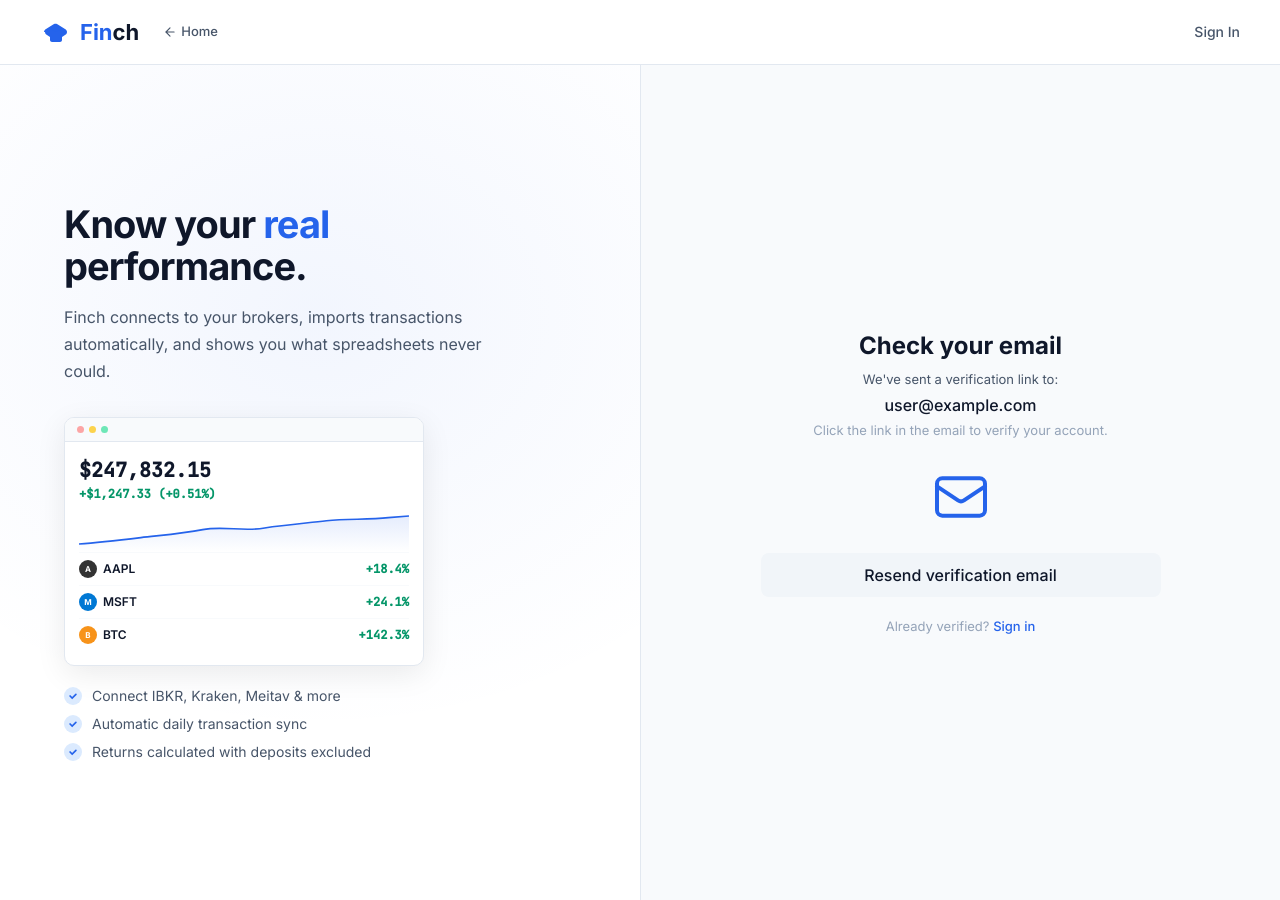
Test: VerificationPending › shows success message after resend
The width and height of the screenshot is (1280, 900).
What coordinates should you click on to do the following:
click the button "Resend verification email"
I would click on:
 (960, 575)
Its box is [760,553,1160,597].
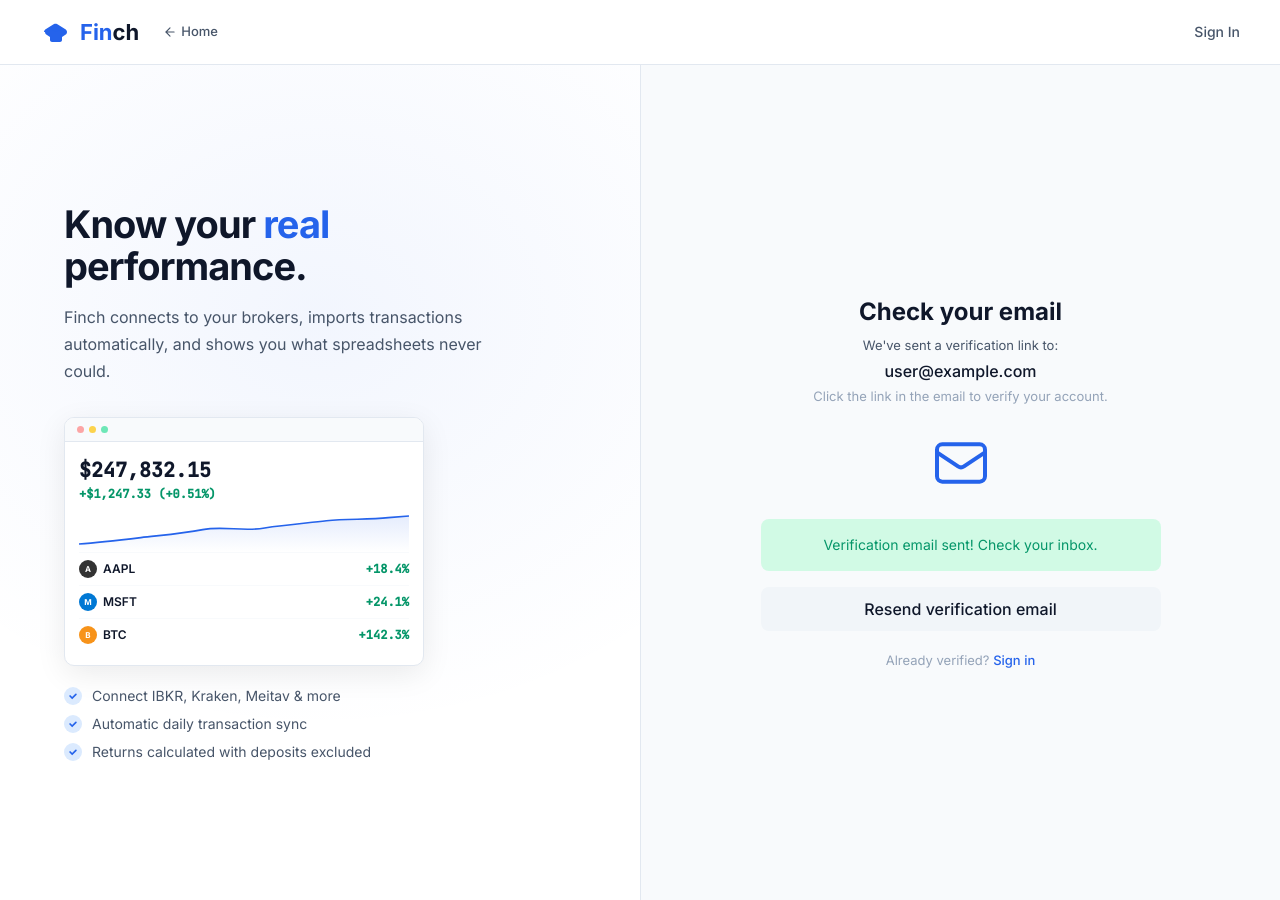
Check: the text "Verification email sent! Check your inbox." is shown, box [823,536,1098,553]
